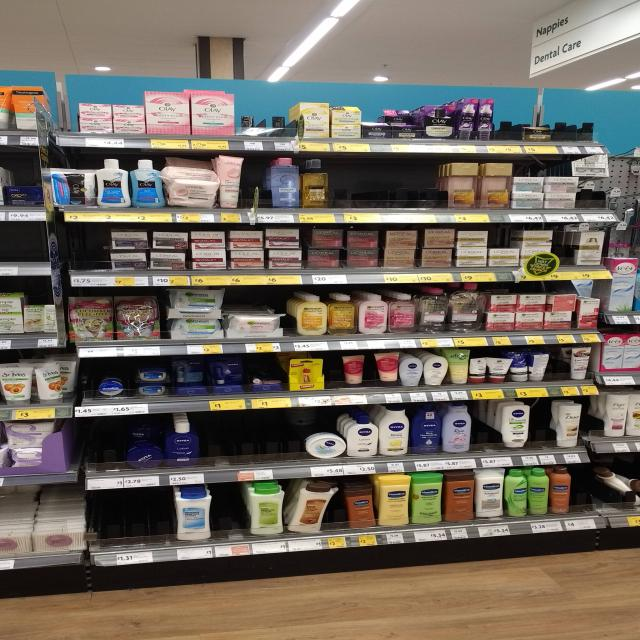empty: (327, 151, 452, 208), (197, 406, 307, 467), (88, 490, 182, 555), (83, 418, 127, 479), (463, 399, 505, 456), (213, 490, 256, 543), (61, 229, 109, 276), (1, 219, 49, 262), (571, 458, 600, 522), (241, 149, 273, 206), (541, 340, 574, 387), (548, 230, 577, 274), (529, 400, 553, 453)
